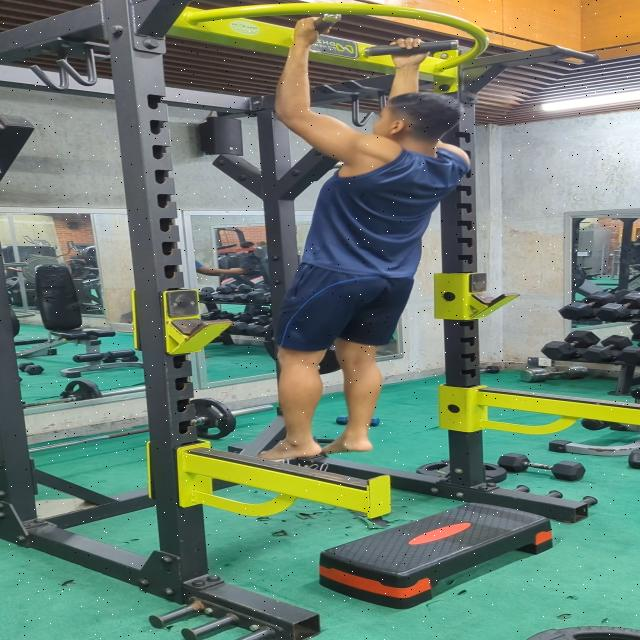Normal_PullUps: (251, 13, 471, 464)
